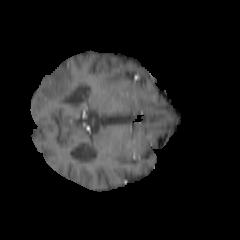glioma: (40, 66, 77, 102)
